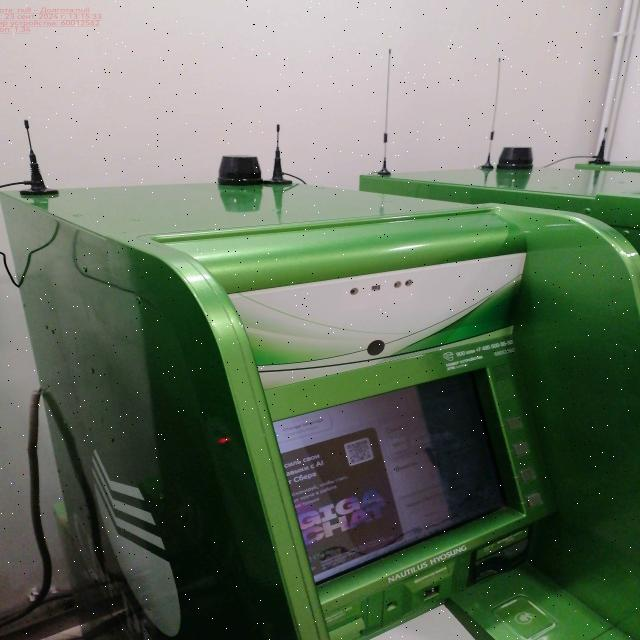bank: (13, 186, 640, 640), (348, 164, 640, 243)
